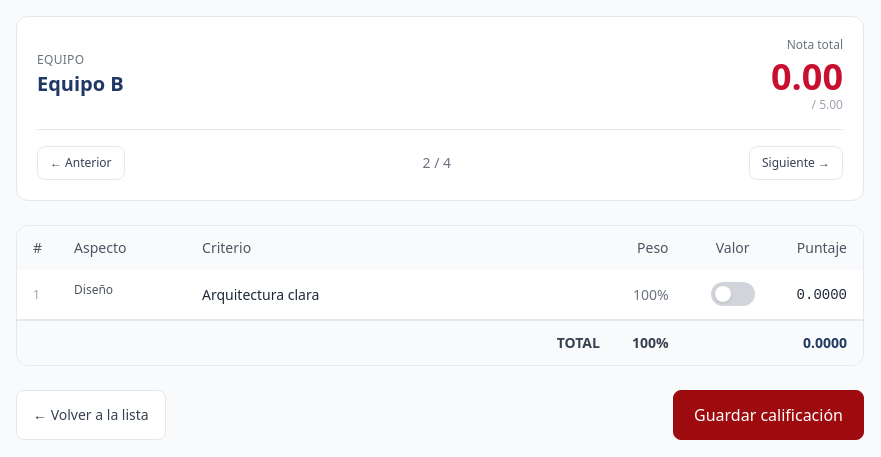
Scenario: GradingTemplatePage — encabezado y navegación entre ítems › "Siguiente" y "Anterior" cambian de ítem reemplazando la entrada y conservando la lista
Expected: the heading "Equipo B" is shown, [37,70,124,98]
What coordinates should you click on to do the following:
click the button "Siguiente →"
I would click on:
 (796, 163)
Its box is [749,146,843,180].
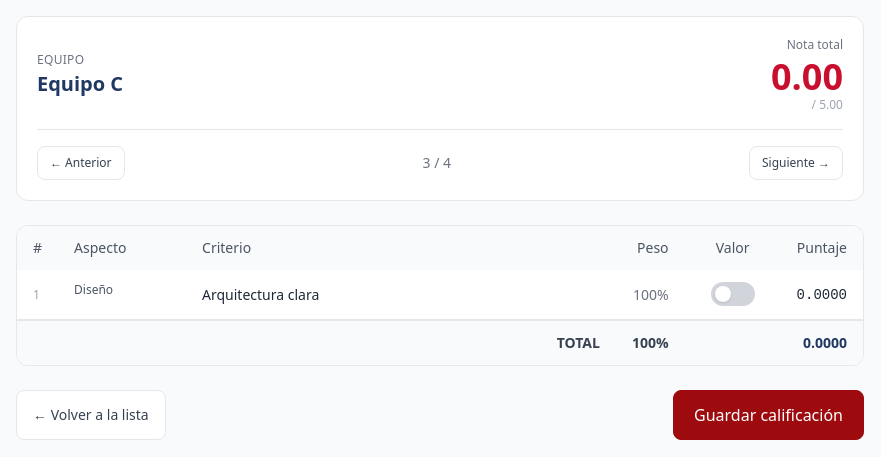
Expected: the heading "Equipo C" is shown, [37,70,123,98]
What coordinates should you click on to do the following:
click the button "← Anterior"
I would click on:
 (81, 163)
Its box is [37,146,125,180].
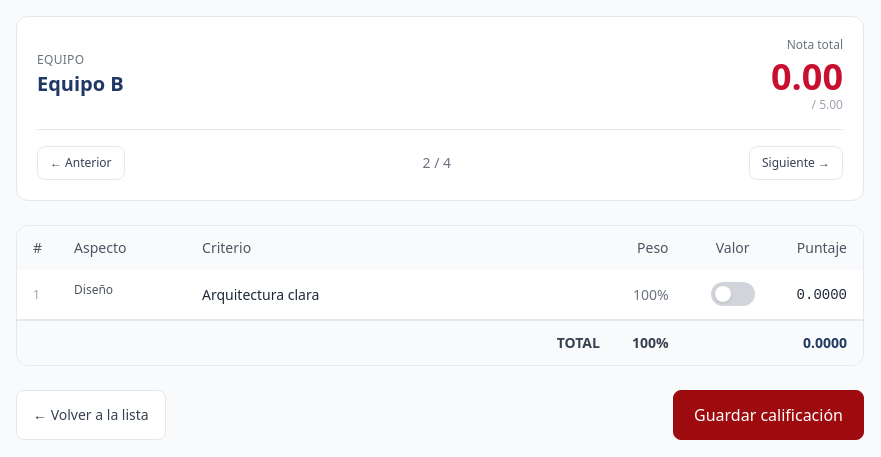
What coordinates should you click on to do the following:
click the button "← Anterior"
I would click on:
 (81, 163)
Its box is [37,146,125,180].
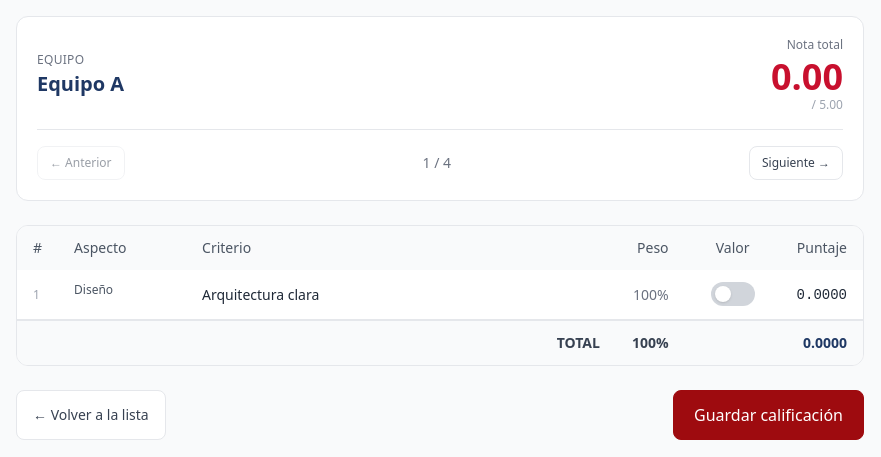
Expected: the heading "Equipo A" is shown, [37,70,124,98]
